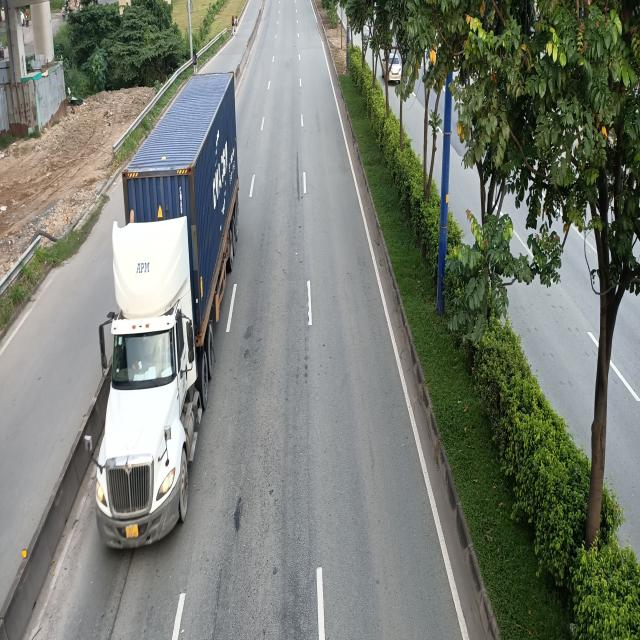container: (96, 75, 239, 543)
